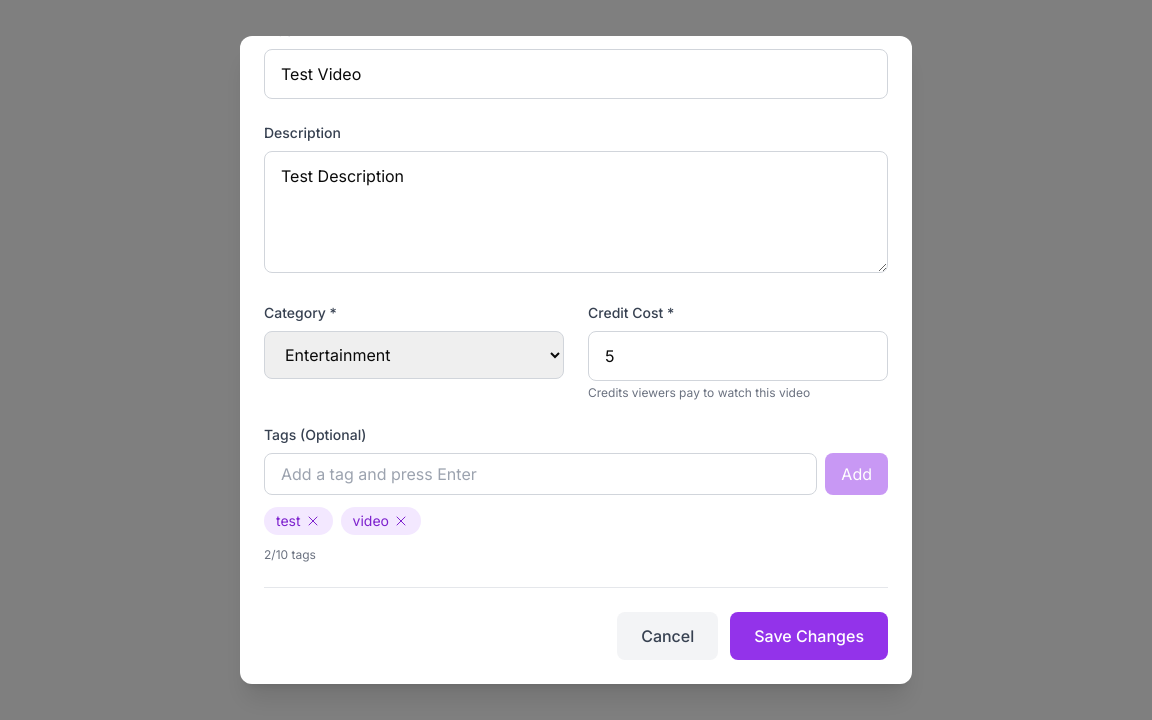
Scenario: VideoEditModal › should handle network errors
(page scrolled)
Click the button "Save Changes".
click(809, 636)  # box [730, 612, 888, 660]
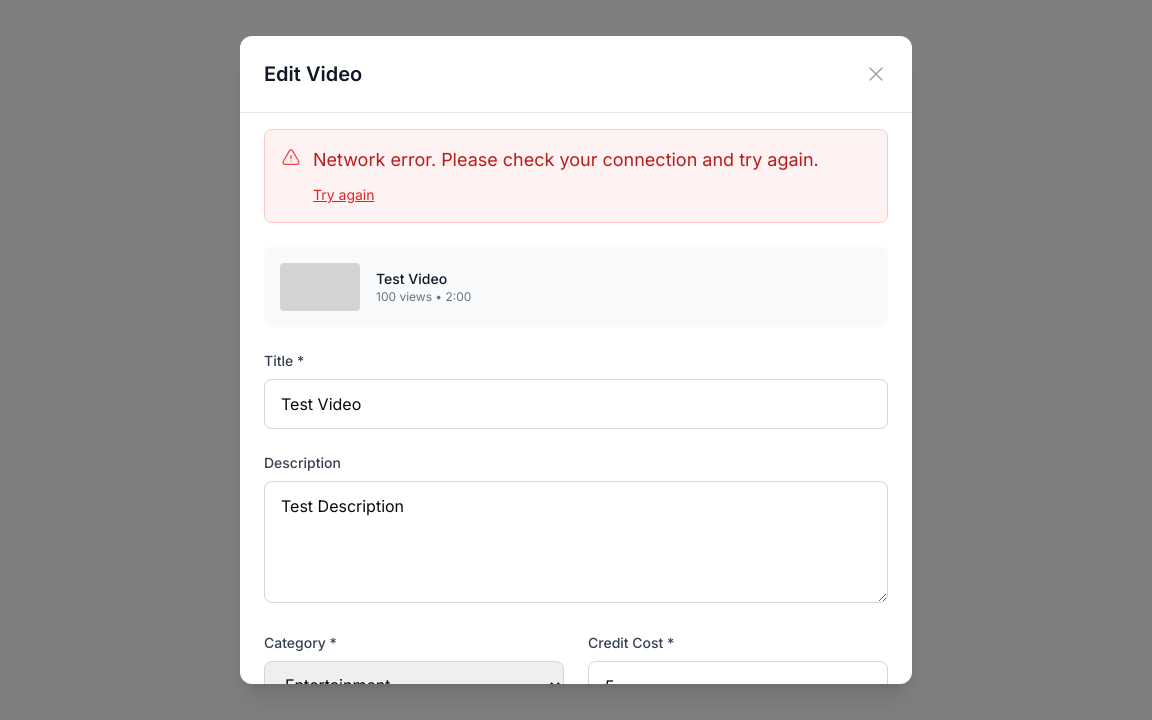
expect the text "Network error. Please check your connection and try again." is shown: met, box [313, 146, 871, 174]
